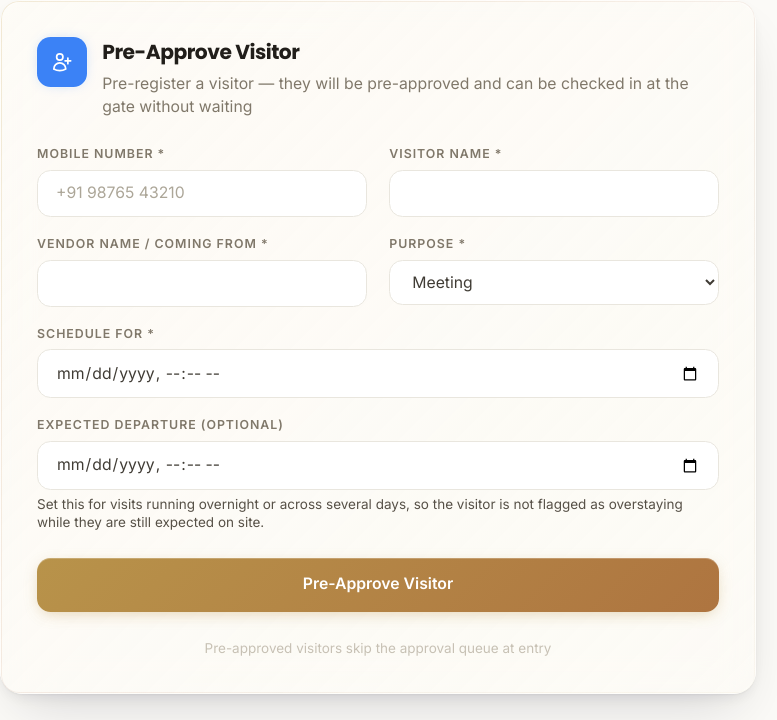
PreApproveForm errors › shows error message when pre-approval RPC fails
Type "9876543210" into the field with placeholder "+91 98765 43210" at [202, 193], box x1=37 y1=170 x2=367 y2=217
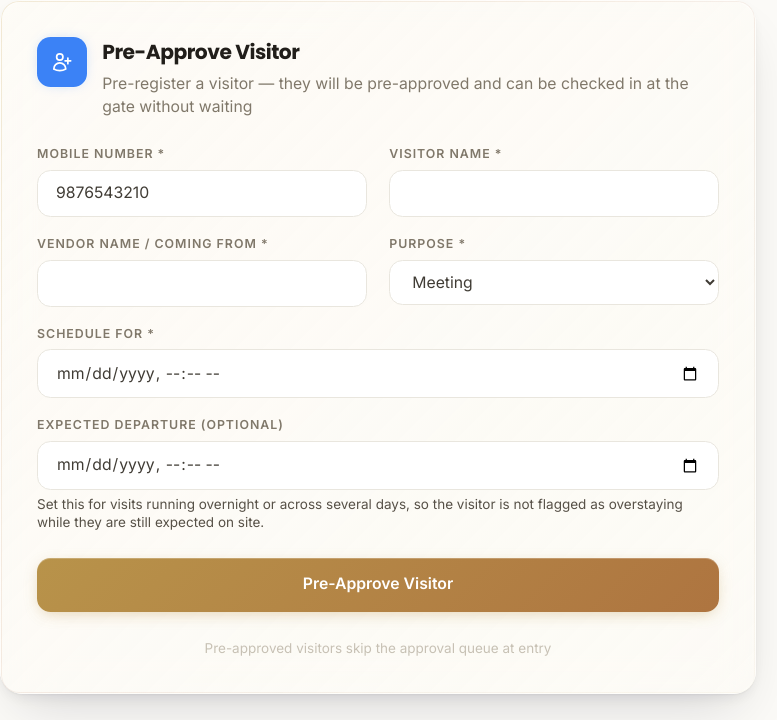
Type "Test Visitor" into the field below "Visitor Name *" at [554, 193], box x1=389 y1=170 x2=719 y2=217
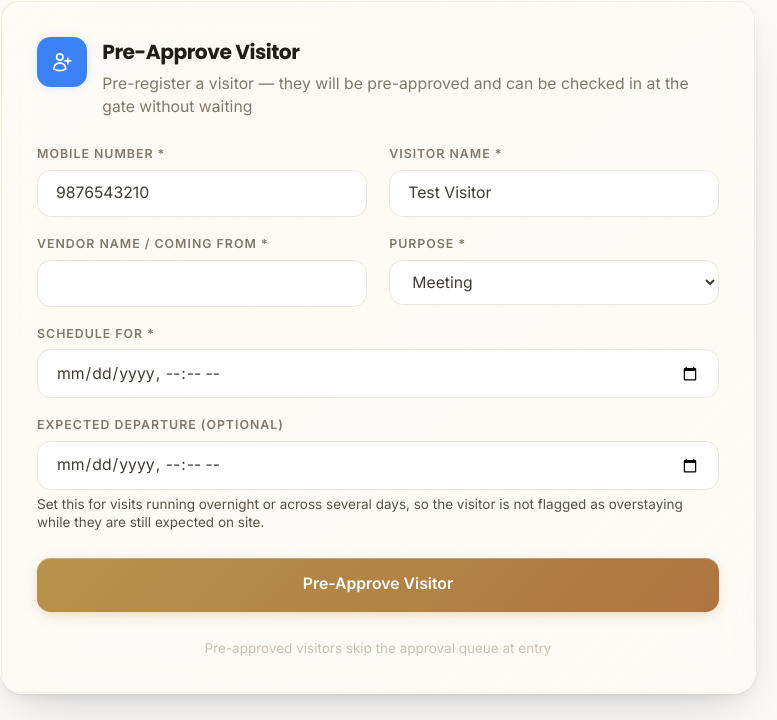
Type "Test Corp" into the field below "Vendor Name / Coming from *" at [202, 283], box x1=37 y1=260 x2=367 y2=306
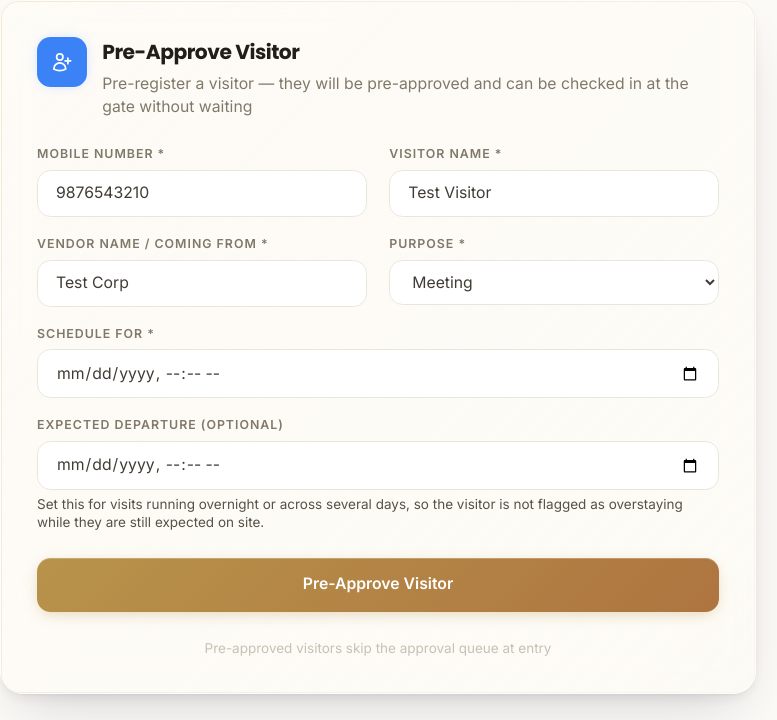
Type "2026-08-05T10:00" into the field labelled "Schedule for *" at [378, 374], box x1=37 y1=349 x2=719 y2=398
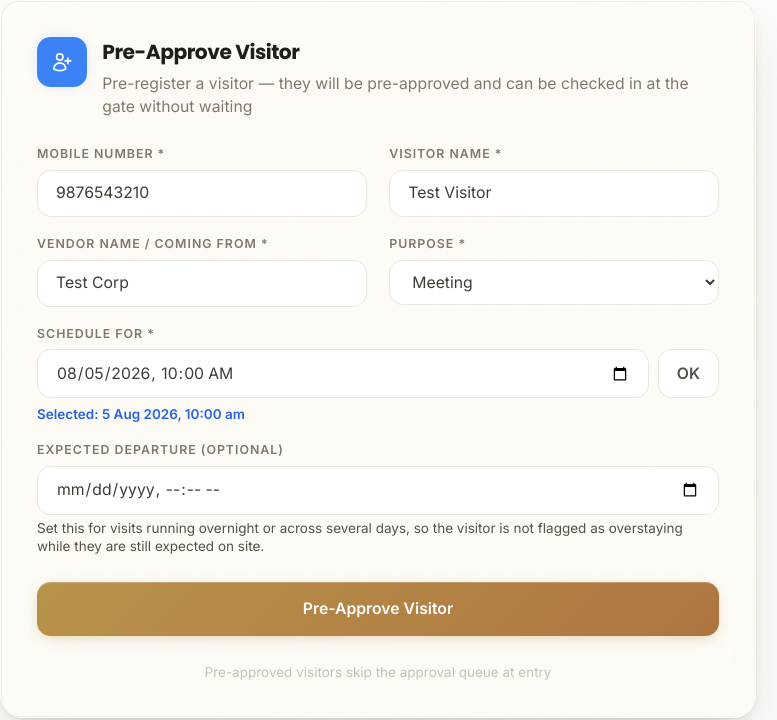
Click the button "Pre-Approve Visitor" at [378, 609], box x1=37 y1=582 x2=719 y2=636
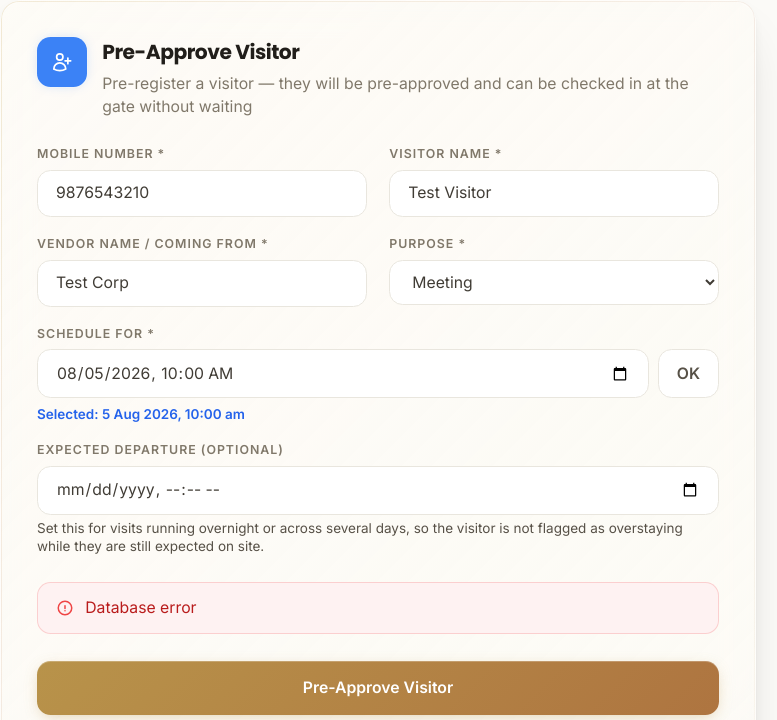
Expected: the text "Database error" is shown, x1=37 y1=582 x2=719 y2=634
